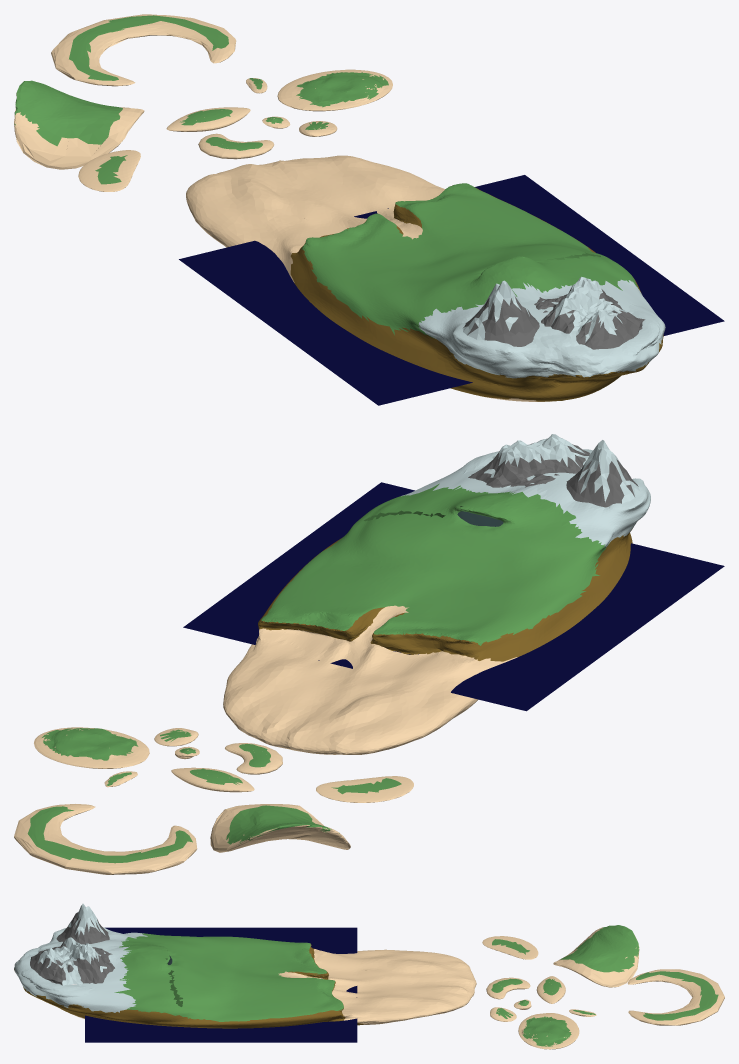
Rendered from hub2.fbx.
3 renders of one model, top to bottom at view 1: azimuth 30°, elevation 25°; view 2: azimuth 150°, elevation 25°; view 3: azimuth 270°, elevation 25°, orthographic. The views are drawn at different scales.
Visible parts, largest first — view 1: desert, grassland, water, snow, grassland._nograss, cliffs, mountainrock; view 2: desert, grassland, water, grassland._nograss, snow, cliffs, mountainrock; view 3: desert, grassland, water, grassland._nograss, snow, cliffs, mountainrock.
Boxes of the visible parts, x1,y1,x2,y2 form: desert: (14, 14, 551, 401); grassland: (14, 15, 635, 338); water: (179, 175, 724, 405); snow: (418, 276, 665, 378); grassland._nograss: (301, 185, 638, 336); cliffs: (290, 185, 663, 401); mountainrock: (463, 287, 645, 377); desert: (14, 605, 517, 874); grassland: (27, 483, 608, 863); water: (183, 482, 724, 711); grassland._nograss: (261, 498, 607, 645); snow: (401, 434, 650, 547); cliffs: (258, 528, 632, 661); mountainrock: (468, 443, 638, 507); desert: (73, 927, 724, 1049); grassland: (114, 925, 718, 1046); water: (85, 927, 357, 1042); grassland._nograss: (127, 935, 341, 1021); snow: (14, 903, 147, 1012); cliffs: (14, 944, 363, 1028); mountainrock: (30, 912, 114, 985).
Bounding box in the file's own units: 2632 × 995 × 6775.
